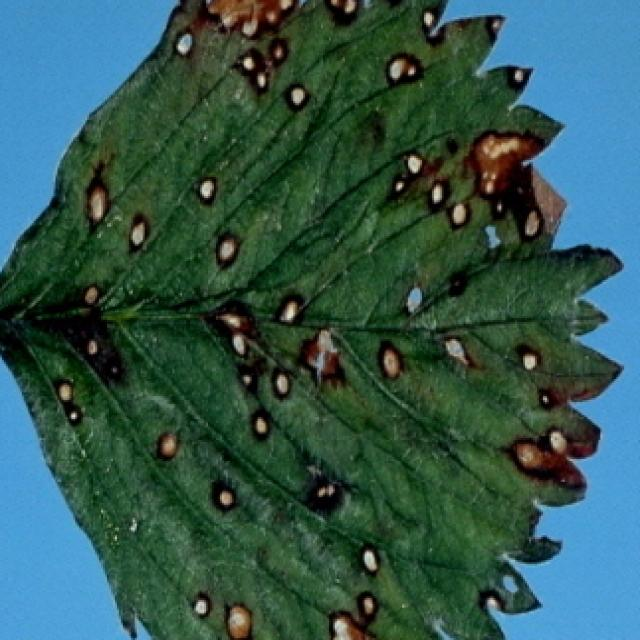Leaf Spot: (0, 0, 629, 640)
